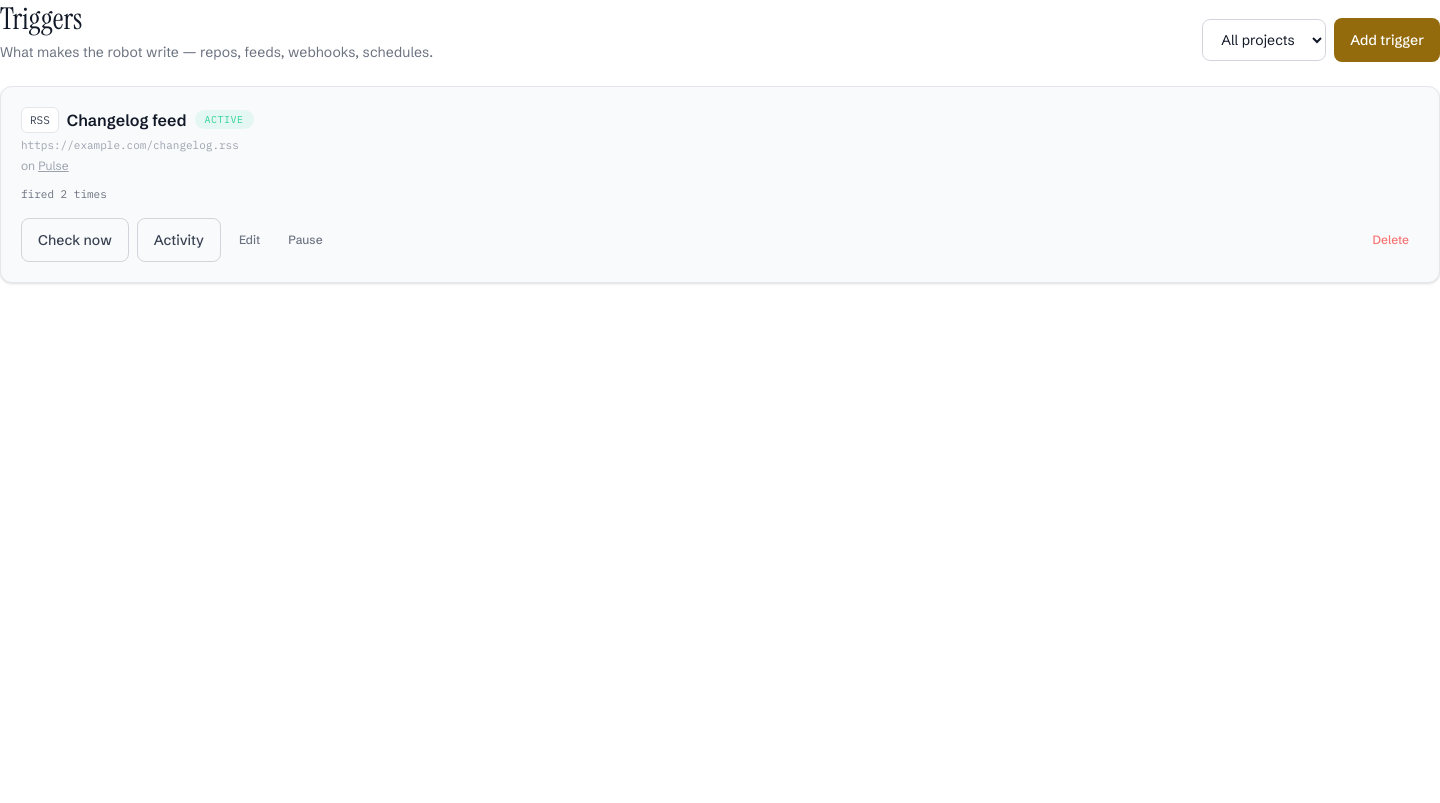
it: the signing secret › is dismissable, and does not come back once dismissed
This screenshot has width=1440, height=803.
Click the button "Add trigger".
click(1387, 40)  # box [1334,18,1439,62]
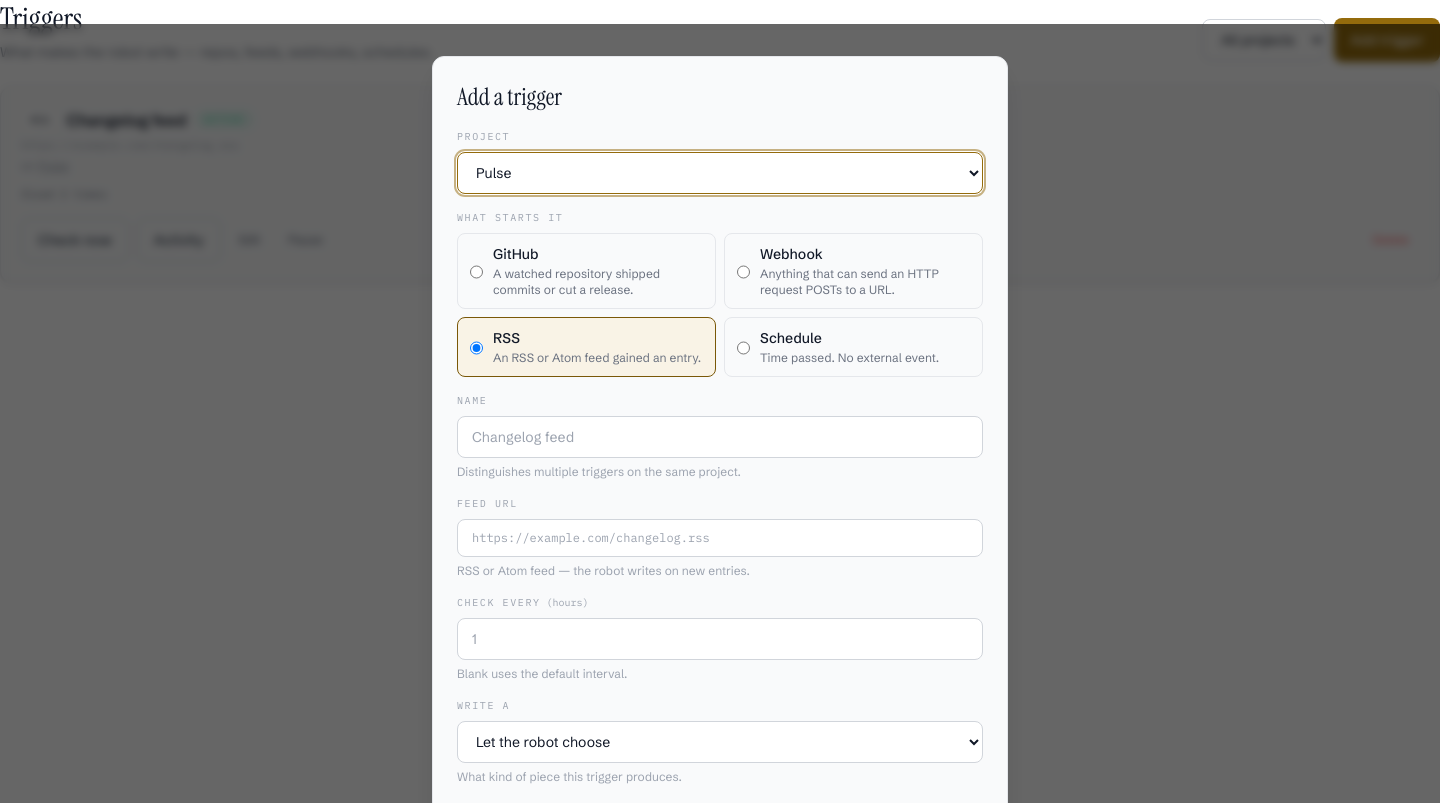
Click the radio button labelled "Webhook".
click(744, 272)  # box [737,246,750,298]
(page scrolled)
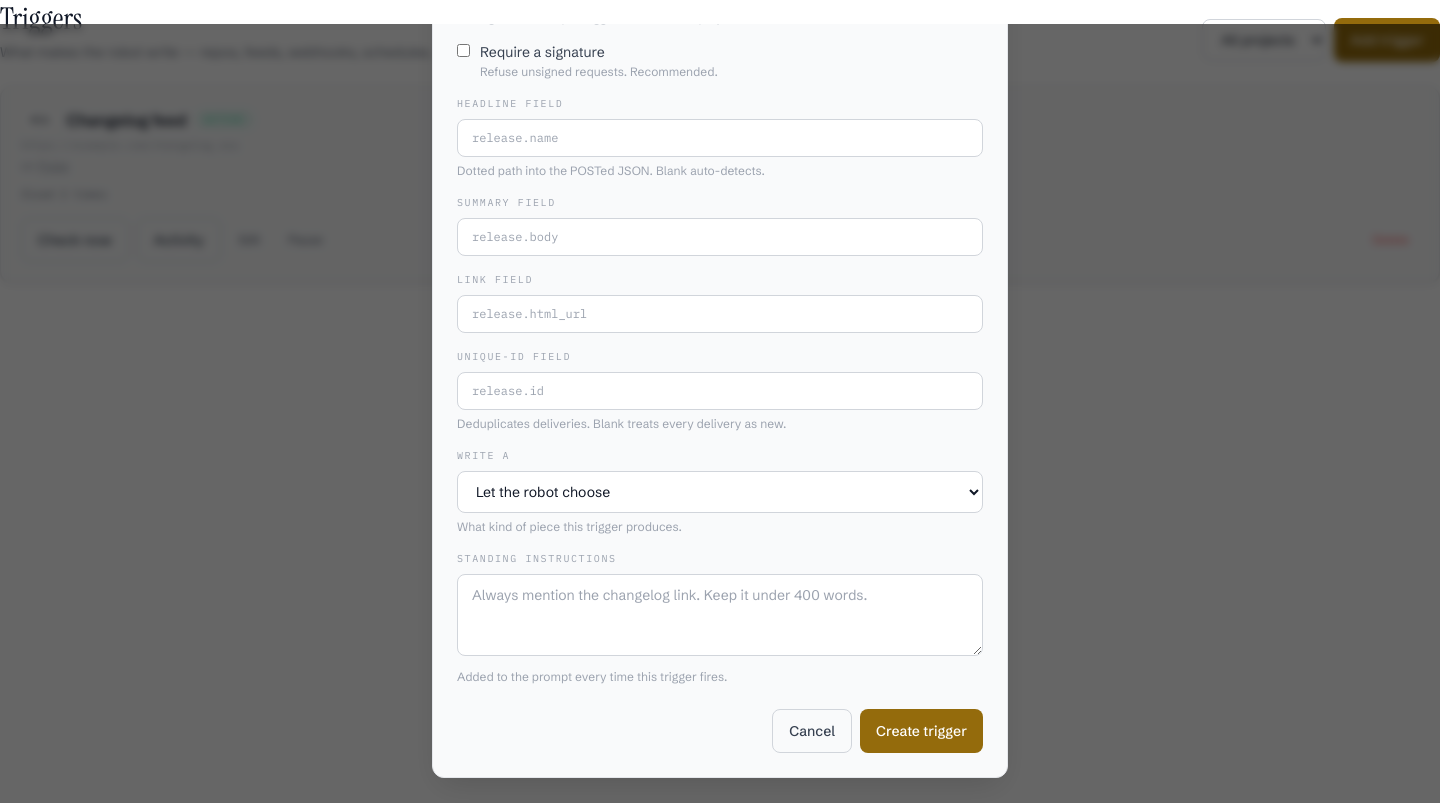
Click the button "Create trigger".
click(922, 730)  # box [860,708,983,752]
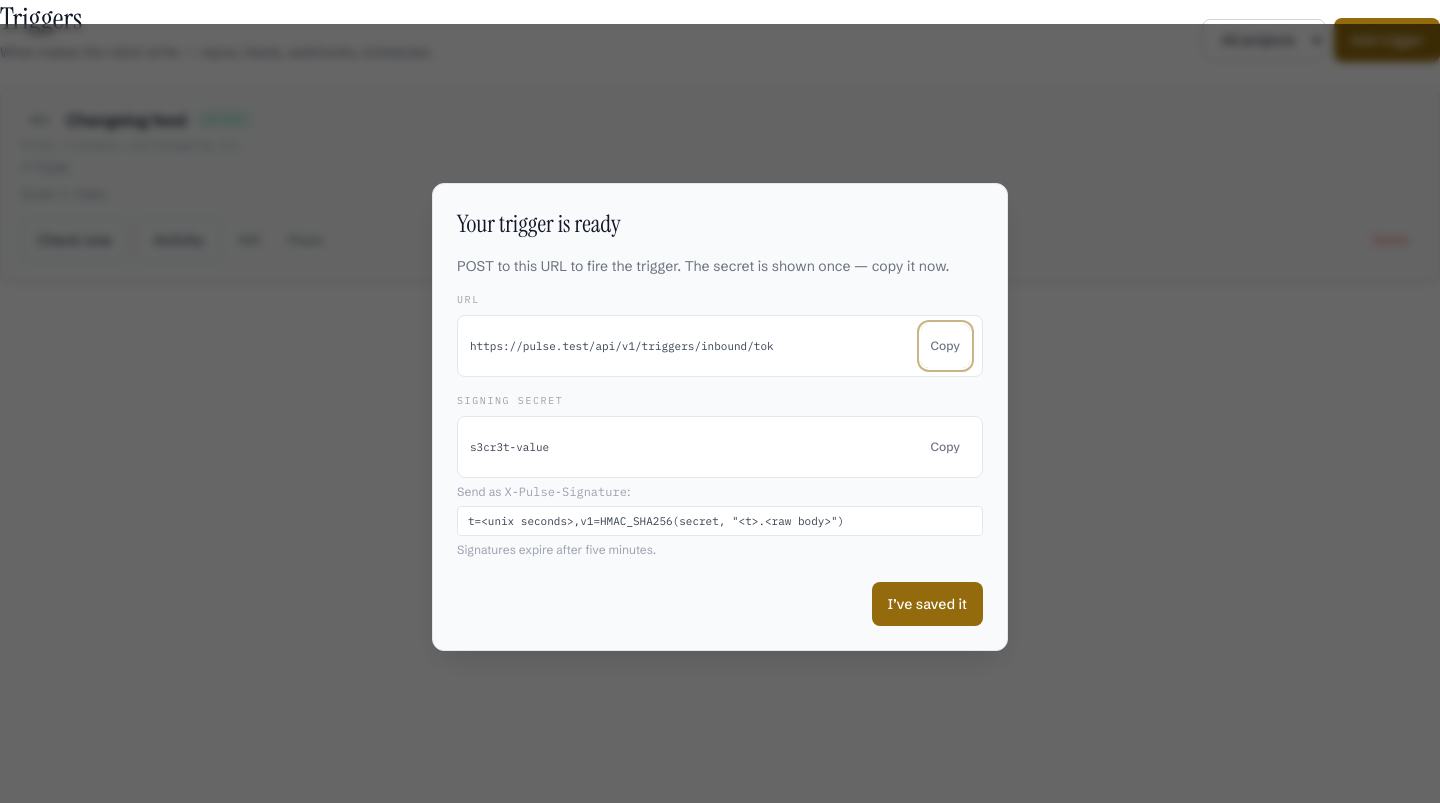
Expected: the text "s3cr3t-value" is shown, [470,440,549,454]
Click the button "I’ve saved it".
click(927, 604)  # box [872,582,983,626]
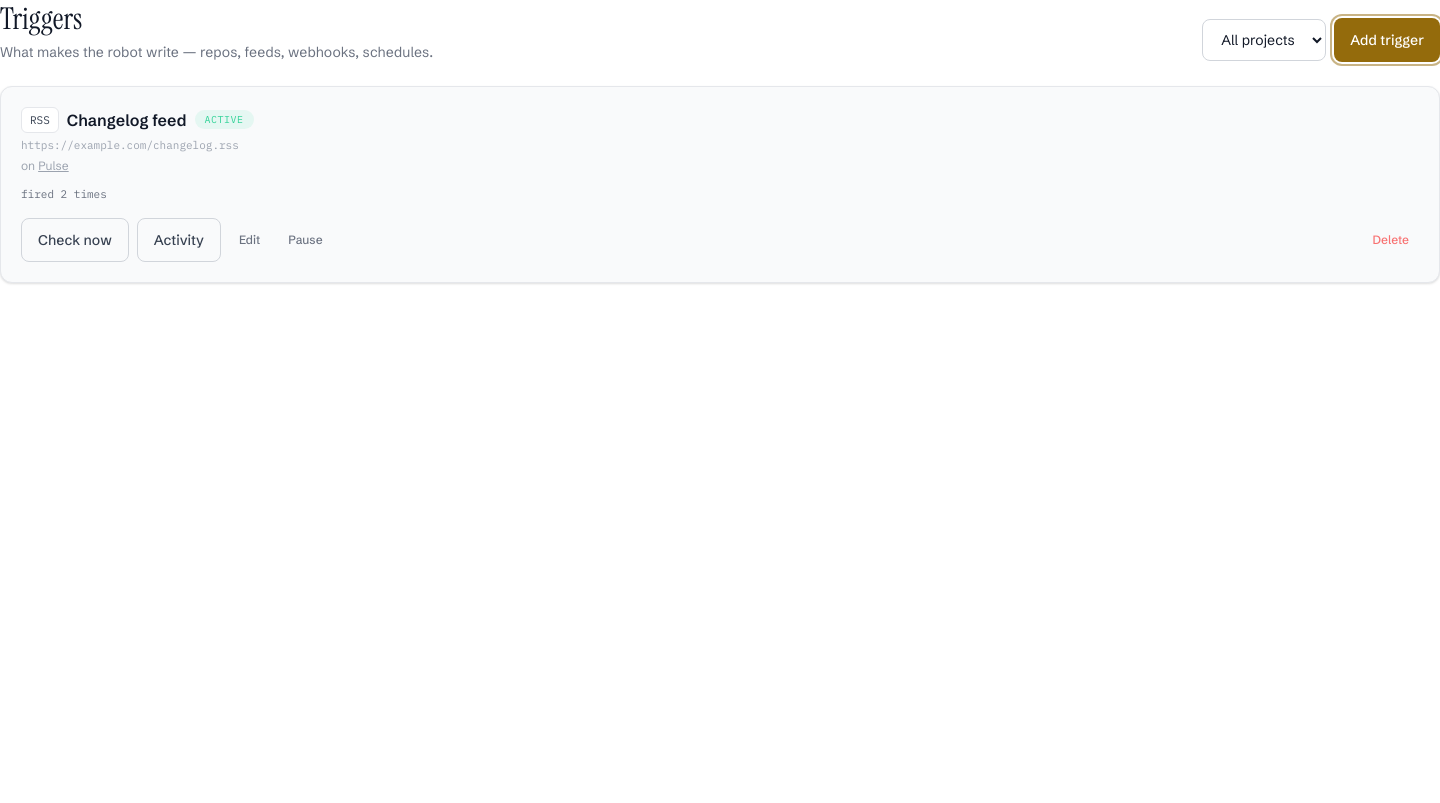
Expected: the text "s3cr3t-value" is gone
